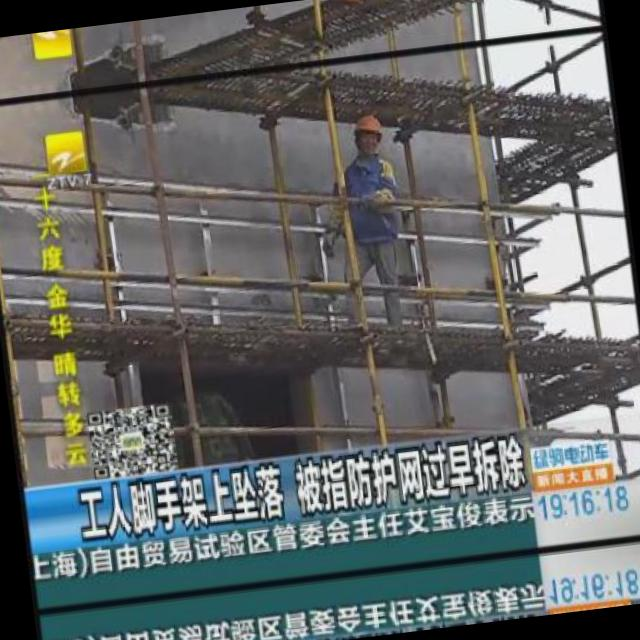helmet: (349, 105, 387, 154), (334, 0, 369, 7)
